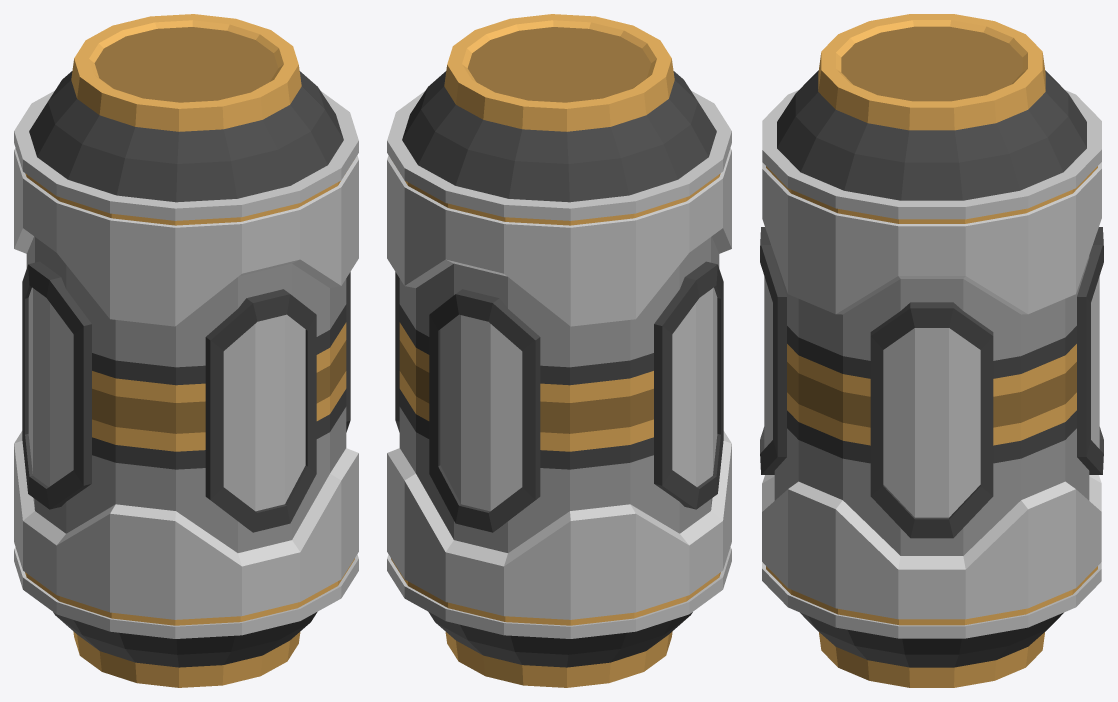
3 renders of one model, left to right at view 1: azimuth 30°, elevation 25°; view 2: azimuth 150°, elevation 25°; view 3: azimuth 270°, elevation 25°, orthographic.
Visible parts, largest first — view 1: Props_Capsule; view 2: Props_Capsule; view 3: Props_Capsule.
Part boxes in pixels (<box>): Props_Capsule: <box>14,14,358,687</box>; Props_Capsule: <box>387,14,731,687</box>; Props_Capsule: <box>760,14,1103,687</box>.
Bounding box in the file's own units: 0.8694 × 1.62 × 0.8694.
